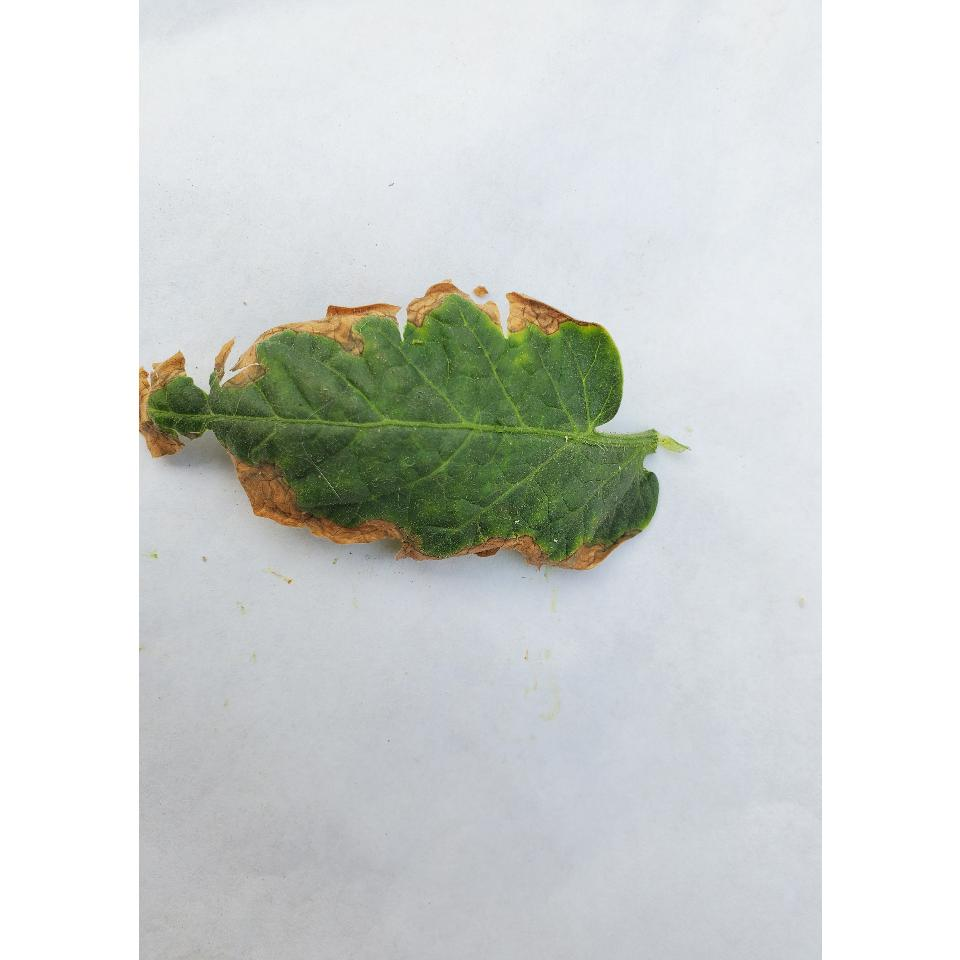tomato_bacterial_blight: (138, 273, 708, 575)
